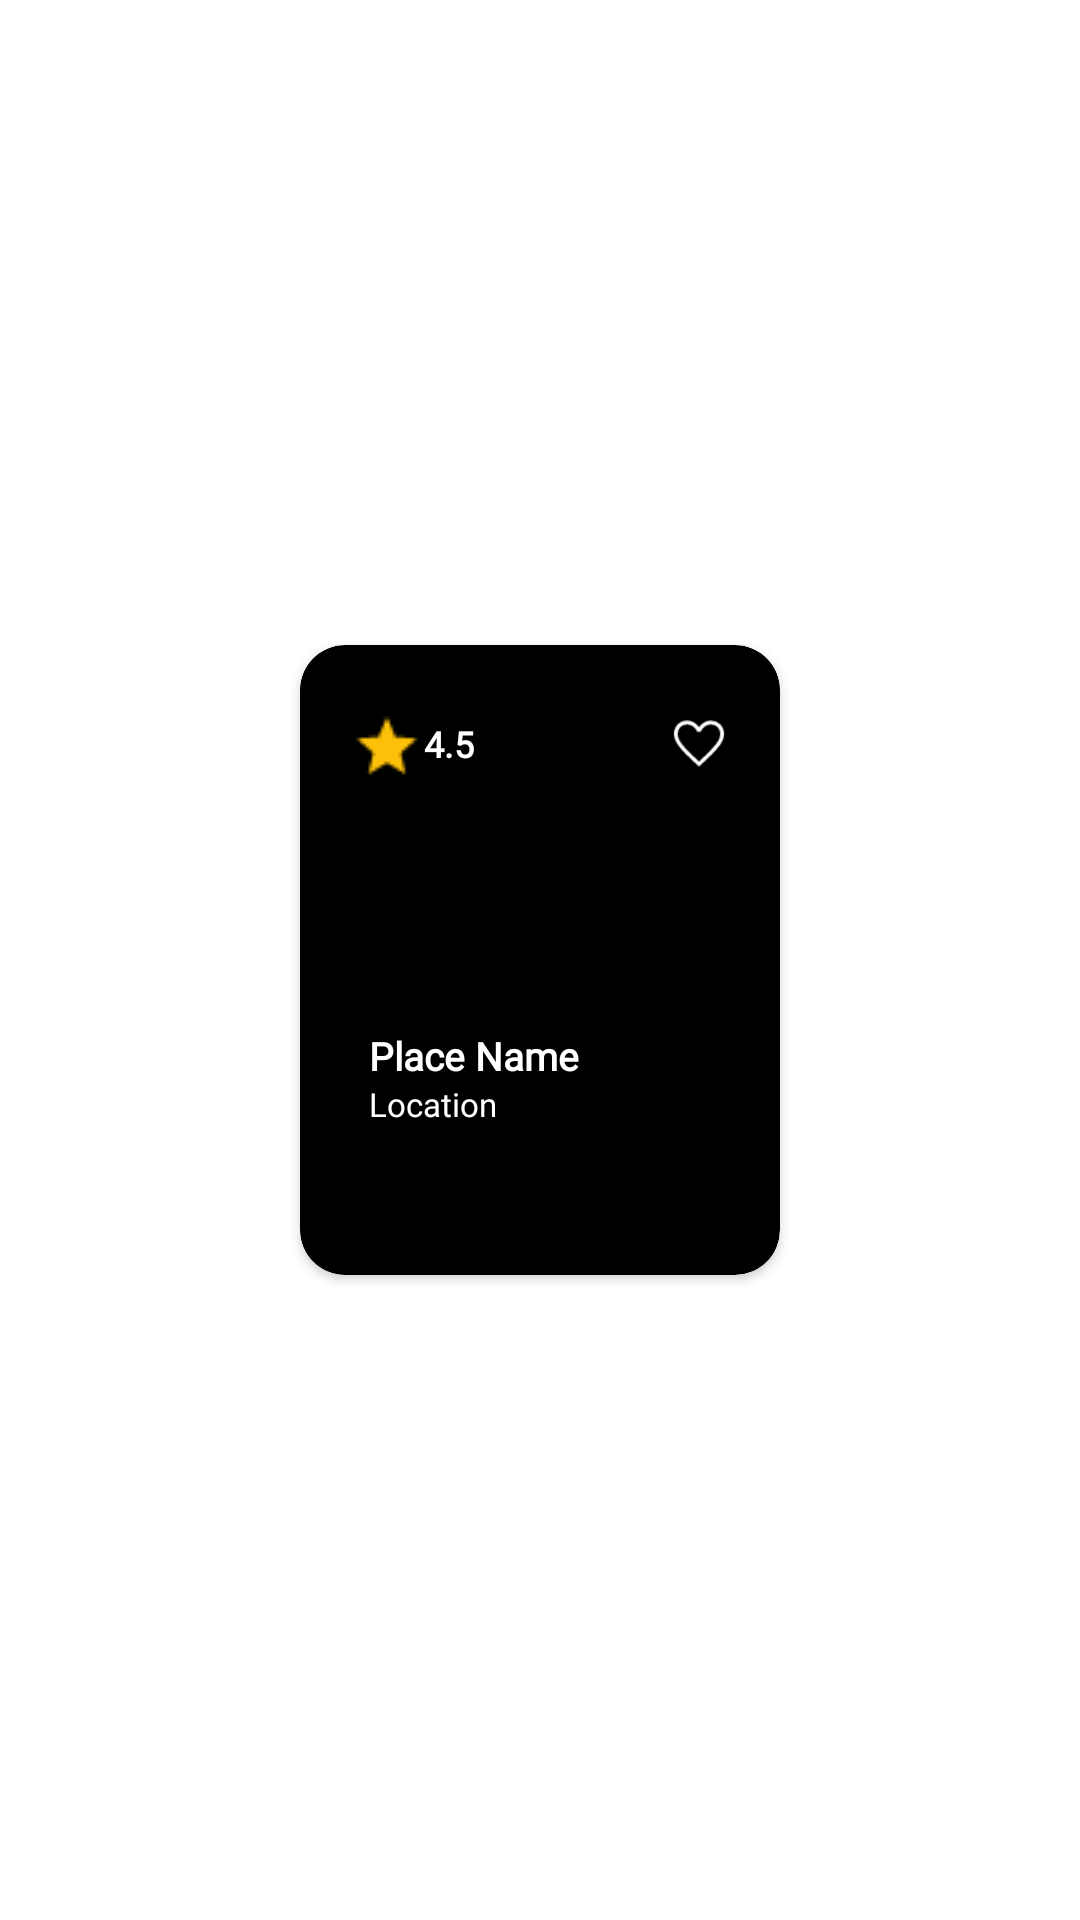

Icons on this 1080×1920 Android screen, each with the point to tap as [x,y]:
favorite: [699,743]
